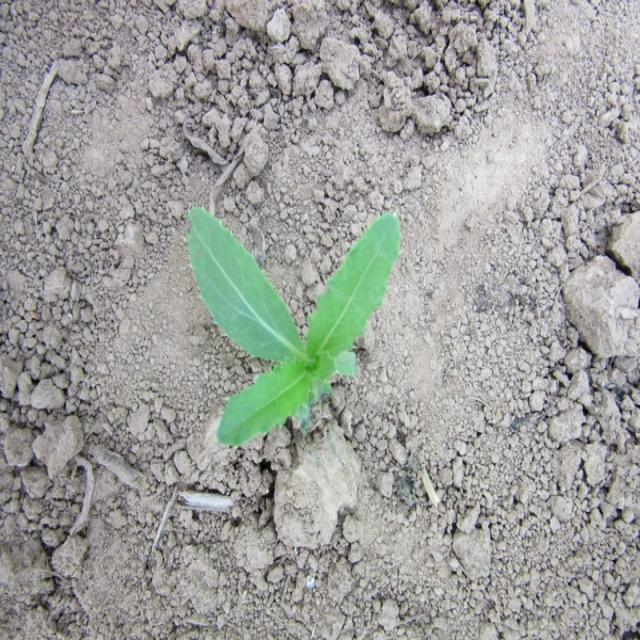cs: (183, 200, 401, 449)
